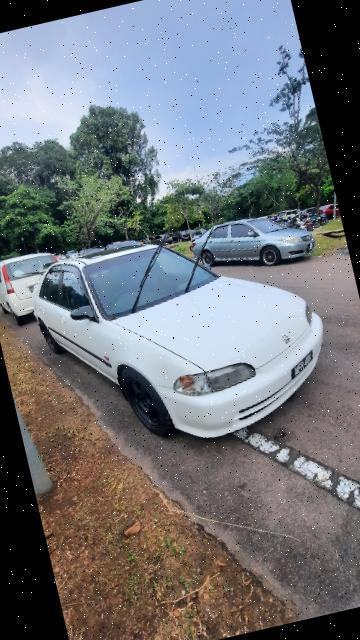License_Plate: (284, 343, 335, 395)
car: (21, 200, 351, 480)
